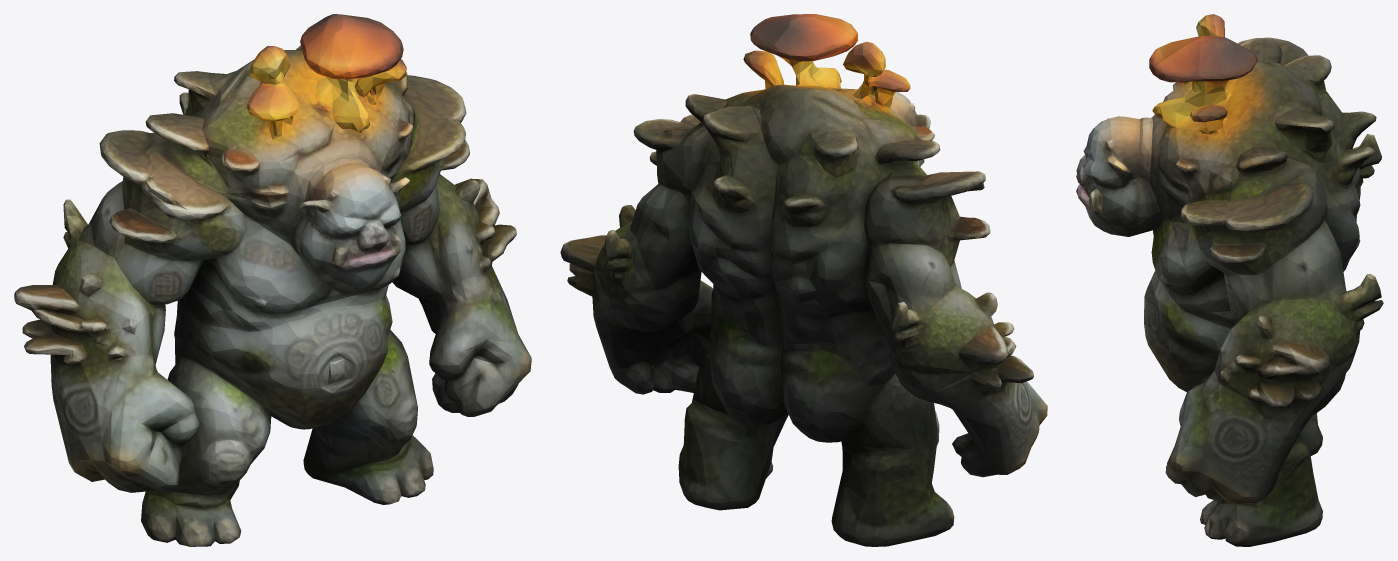
The model's file is fungusTroll.glb.
3 renders of one model, left to right at view 1: azimuth 30°, elevation 25°; view 2: azimuth 150°, elevation 25°; view 3: azimuth 270°, elevation 25°, orthographic. The views are drawn at different scales.
Parts seen in each view (by area): view 1: world; view 2: world; view 3: world.
Boxes of the visible parts, bbox=[...] form: world: bbox=[14, 14, 531, 546]; world: bbox=[560, 14, 1047, 546]; world: bbox=[1076, 14, 1383, 546].
Size of the model in its own units: 0.7963 by 0.7602 by 0.4573.
1 material, 1 textured.
